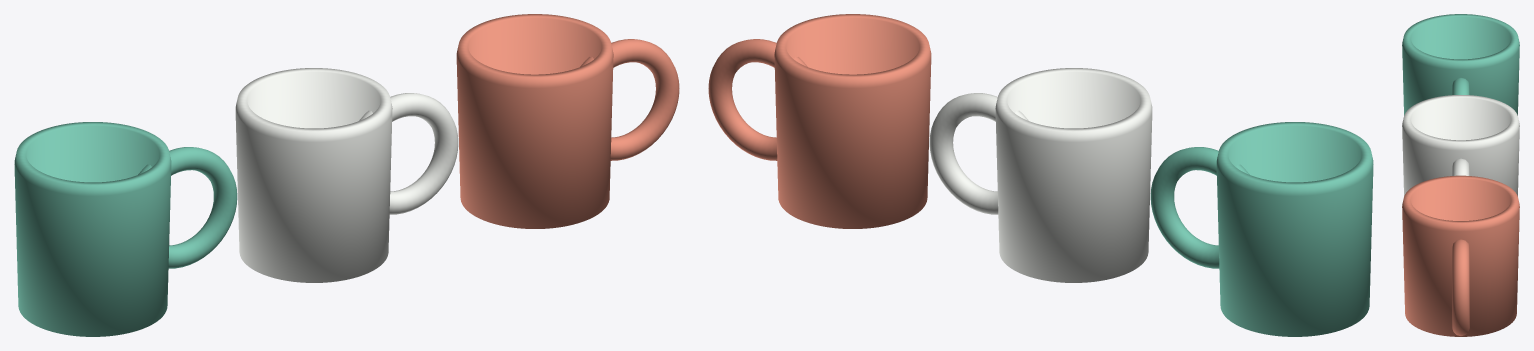
The model's file is mugs.glb.
3 views of the same model, side by side, from view 1: azimuth 30°, elevation 25°; view 2: azimuth 150°, elevation 25°; view 3: azimuth 270°, elevation 25° (orthographic). The views are drawn at different scales.
Visible parts, largest first — view 1: Mug 1 hollow ceramic body, Mug 2 hollow ceramic body, Mug 3 hollow ceramic body, Mug 2 handle, Mug 3 handle, Mug 1 handle; view 2: Mug 1 hollow ceramic body, Mug 2 hollow ceramic body, Mug 3 hollow ceramic body, Mug 2 handle, Mug 3 handle, Mug 1 handle; view 3: Mug 3 hollow ceramic body, Mug 1 hollow ceramic body, Mug 2 hollow ceramic body, Mug 3 handle, Mug 2 handle, Mug 1 handle.
Boxes of the visible parts, x1,y1,x2,y2 form: Mug 1 hollow ceramic body: (14,122,171,336); Mug 2 hollow ceramic body: (235,68,392,282); Mug 3 hollow ceramic body: (456,14,613,228); Mug 2 handle: (359,93,458,214); Mug 3 handle: (580,39,679,160); Mug 1 handle: (138,147,237,268); Mug 1 hollow ceramic body: (1216,122,1373,336); Mug 2 hollow ceramic body: (995,68,1152,282); Mug 3 hollow ceramic body: (774,14,931,228); Mug 2 handle: (929,93,1028,214); Mug 3 handle: (708,39,807,160); Mug 1 handle: (1150,147,1249,268); Mug 3 hollow ceramic body: (1402,175,1519,336); Mug 1 hollow ceramic body: (1402,14,1519,115); Mug 2 hollow ceramic body: (1402,95,1519,196); Mug 3 handle: (1452,239,1469,335); Mug 2 handle: (1452,158,1469,175); Mug 1 handle: (1452,78,1469,94).
Size of the model in its own units: 0.384 by 0.088 by 0.08.
